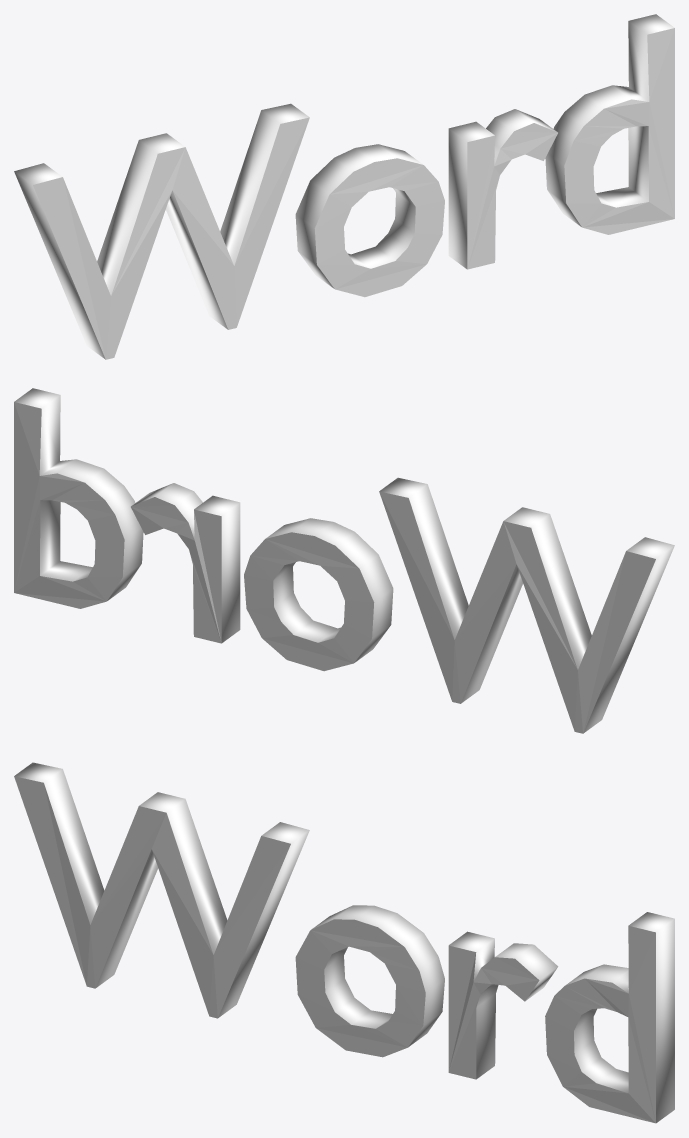
The model's file is textWords.glb.
3 views of the same model, one above another, from view 1: azimuth 30°, elevation 25°; view 2: azimuth 150°, elevation 25°; view 3: azimuth 330°, elevation 25° (orthographic).
Parts seen in each view (by area): view 1: TextWords; view 2: TextWords; view 3: TextWords.
Boxes of the visible parts, x1,y1,x2,y2 form: TextWords: [14, 14, 674, 359]; TextWords: [14, 388, 674, 733]; TextWords: [14, 762, 674, 1123].
Size of the model in its own units: 1.48 by 0.4259 by 0.0825.
Materials: 1 (1 with a texture image).
